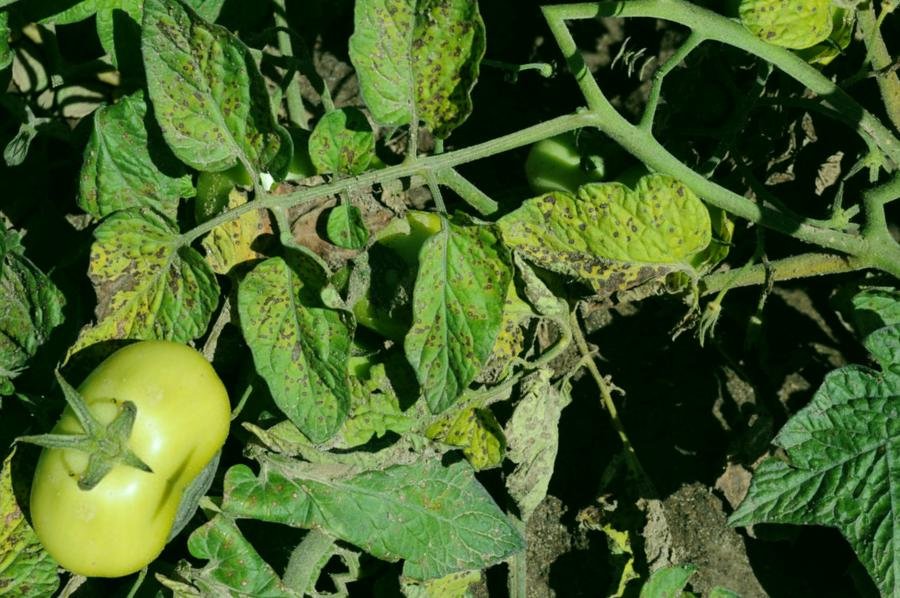Tomato Septoria leaf spot: (481, 107, 737, 349), (29, 166, 258, 413), (339, 189, 552, 428), (195, 235, 418, 448), (79, 0, 308, 192), (289, 0, 537, 163)
